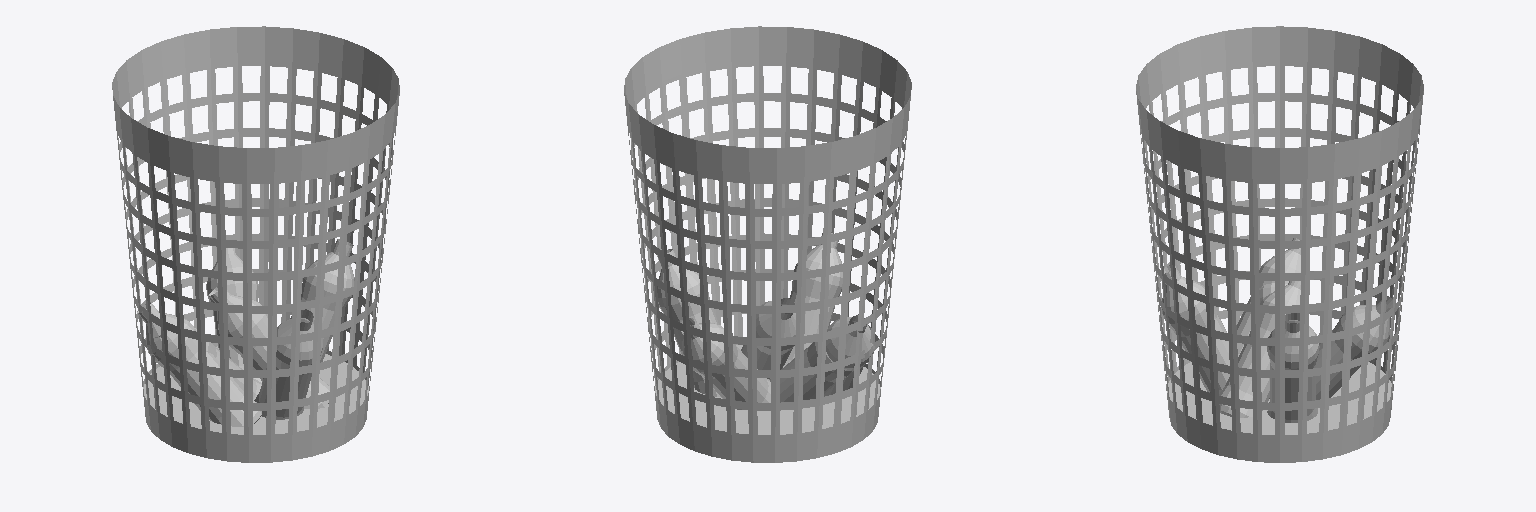
Rendered from DustbinWithCan_000045.obj.
3 renders of one model, left to right at view 1: azimuth 30°, elevation 25°; view 2: azimuth 150°, elevation 25°; view 3: azimuth 270°, elevation 25°, orthographic.
Visible parts, largest first — view 1: Cylinder, Plane.005, Plane.001, Plane.003, Plane.004, Plane.002; view 2: Cylinder, Plane.002, Plane.001, Plane.003, Plane.004, Plane.006, Plane.005; view 3: Cylinder, Plane.001, Plane.004, Plane.003, Plane.002, Plane.005.
Part boxes in pixels (x1,y1,x2,y2): Cylinder: (112,26,399,462); Plane.005: (137,302,261,426); Plane.001: (254,309,322,419); Plane.003: (290,239,354,362); Plane.004: (209,286,329,408); Plane.002: (206,248,261,382); Cylinder: (624,26,911,462); Plane.002: (681,318,770,409); Plane.001: (783,233,842,367); Plane.003: (657,249,719,396); Plane.004: (741,298,795,378); Plane.006: (769,325,870,402); Plane.005: (824,315,874,396); Cylinder: (1136,26,1423,462); Plane.001: (1162,265,1238,393); Plane.004: (1219,281,1300,417); Plane.003: (1267,313,1319,422); Plane.002: (1316,296,1397,399); Plane.005: (1237,238,1300,354).
Size of the model in its own units: 2.6 by 3.36 by 2.6.